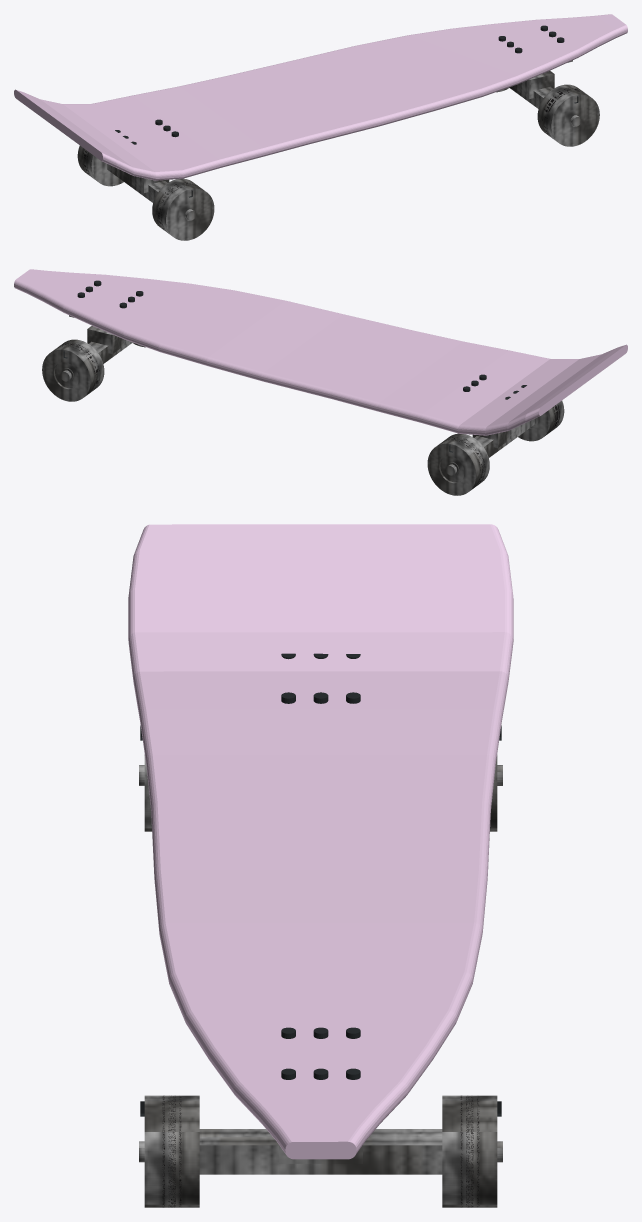
File: Sports_Skateboard__0108.glb
3 renders of one model, top to bottom at view 1: azimuth 30°, elevation 25°; view 2: azimuth 150°, elevation 25°; view 3: azimuth 270°, elevation 25°, orthographic. The views are drawn at different scales.
Visible parts, largest first — view 1: deck::deck_board, rear_wheel_0::wheel_rim, front_wheel_0::wheel_rim, front_hanger::hanger, rear_hanger::hanger, rear_wheel_1::wheel_rim; view 2: deck::deck_board, front_wheel_1::wheel_rim, rear_wheel_1::wheel_rim, front_hanger::hanger, rear_hanger::hanger, rear_wheel_0::wheel_rim; view 3: deck::deck_board, front_hanger::hanger, front_wheel_1::wheel_rim, front_wheel_0::wheel_rim.
Boxes of the visible parts, x1,y1,x2,y2 form: deck::deck_board: (14, 14, 627, 180); rear_wheel_0::wheel_rim: (152, 178, 214, 240); front_wheel_0::wheel_rim: (537, 84, 599, 146); front_hanger::hanger: (509, 71, 581, 126); rear_hanger::hanger: (107, 164, 195, 220); rear_wheel_1::wheel_rim: (77, 145, 123, 186); deck::deck_board: (14, 269, 627, 435); front_wheel_1::wheel_rim: (42, 339, 104, 401); rear_wheel_1::wheel_rim: (427, 433, 489, 495); front_hanger::hanger: (60, 326, 132, 381); rear_hanger::hanger: (446, 418, 535, 475); rear_wheel_0::wheel_rim: (518, 400, 564, 441); deck::deck_board: (128, 524, 513, 1159); front_hanger::hanger: (139, 1129, 502, 1174); front_wheel_1::wheel_rim: (442, 1095, 497, 1207); front_wheel_0::wheel_rim: (144, 1095, 199, 1207).
Bounding box in the file's own units: 0.8 × 0.1477 × 0.238.
Materials: 4 (3 with a texture image).
